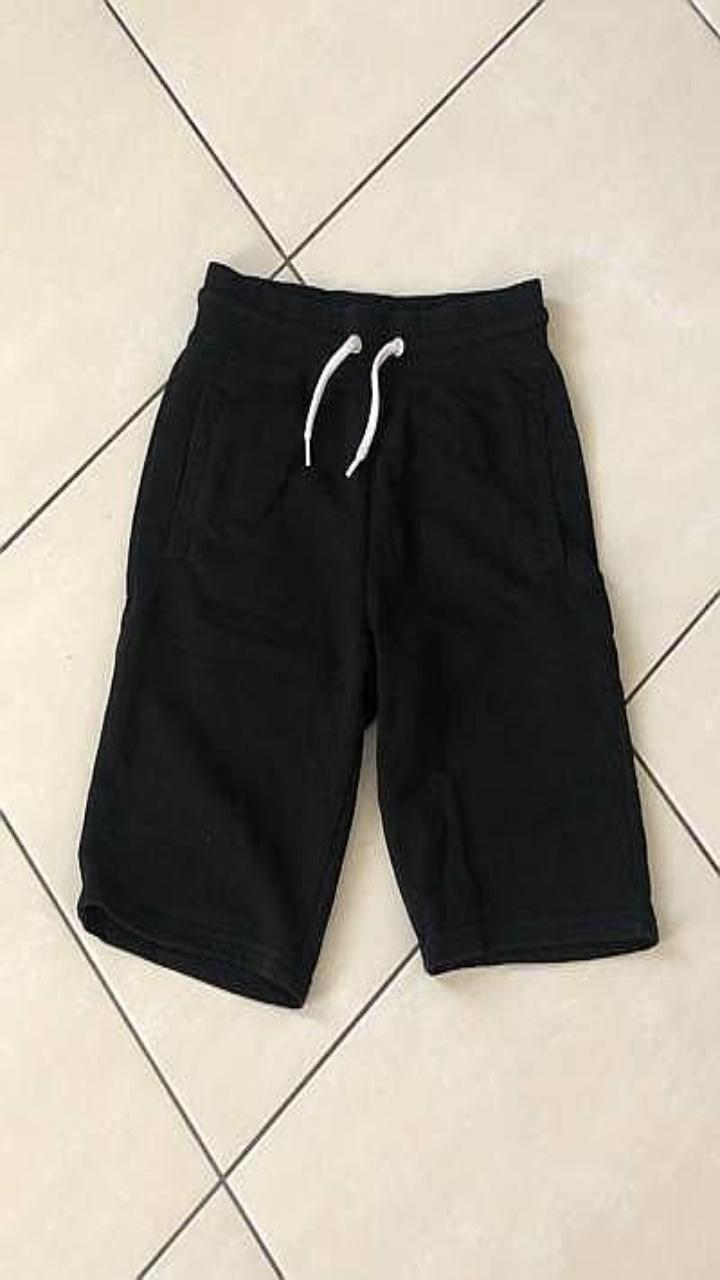Shorts: (79, 264, 656, 1005)
